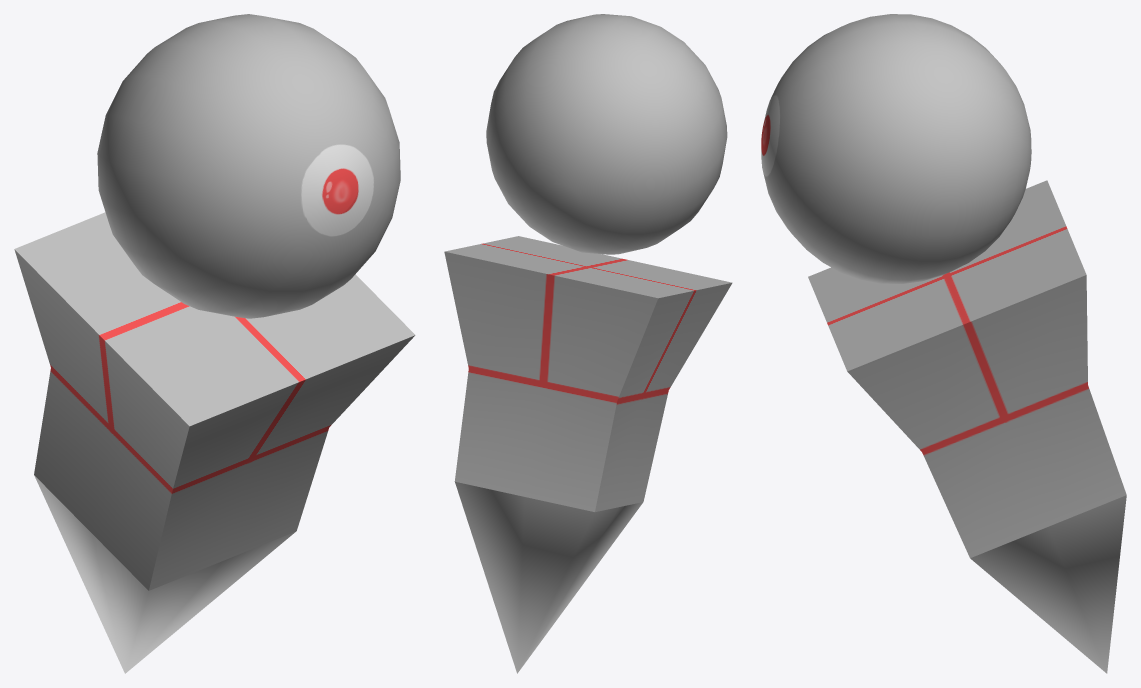
File: ENEMY2.fbx
3 views of the same model, side by side, from view 1: azimuth 30°, elevation 25°; view 2: azimuth 150°, elevation 25°; view 3: azimuth 270°, elevation 25° (orthographic). The views are drawn at different scales.
Visible parts, largest first — view 1: pSphere2; view 2: pSphere2; view 3: pSphere2.
Boxes of the visible parts, box(x1,y1,x2,y2) form: pSphere2: box(14, 14, 415, 673); pSphere2: box(444, 14, 732, 673); pSphere2: box(761, 14, 1126, 673).
Bounding box in the file's own units: 91.91 × 222 × 113.
1 material, 1 textured.
